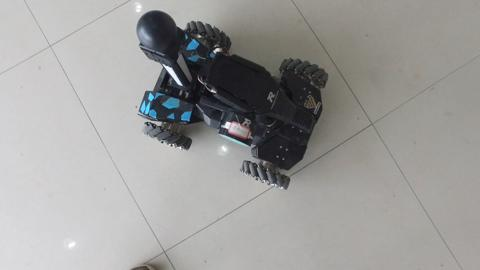chariot: (110, 10, 310, 180)
